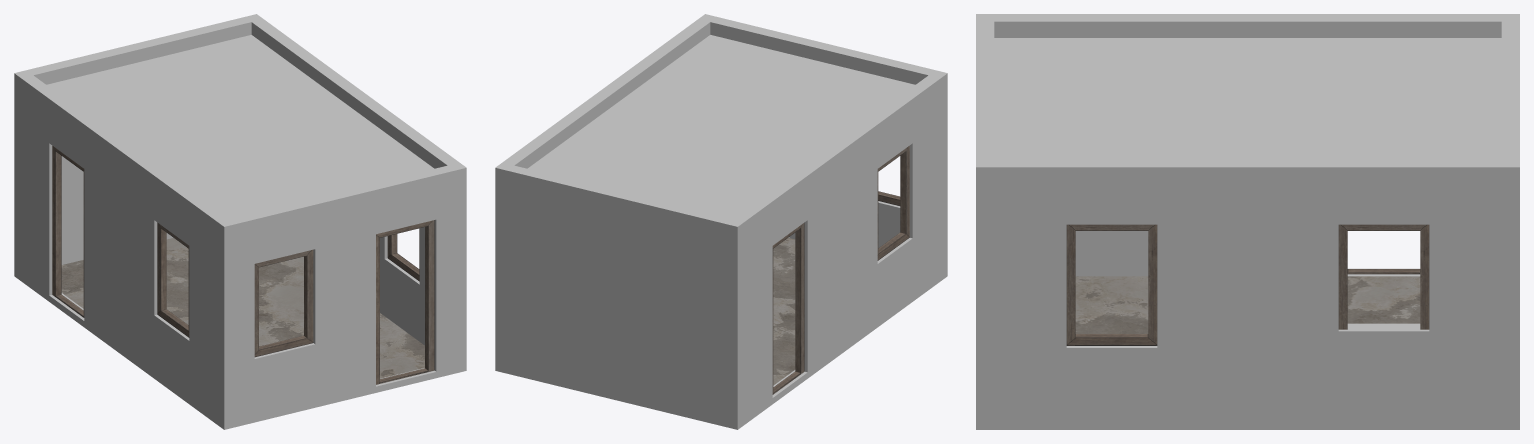
File: Building_A_Intact.fbx
The picture shows the model from 3 angles, left to right: view 1: azimuth 30°, elevation 25°; view 2: azimuth 150°, elevation 25°; view 3: azimuth 270°, elevation 25°; orthographic projection. The views are drawn at different scales.
Visible parts, largest first — view 1: Walls, Rooftop, Windows, Floor_Ground; view 2: Walls, Rooftop, Windows, Floor_Ground; view 3: Walls, Rooftop, Floor_Ground, Windows.
Part boxes in pixels (bbox=[...]): Walls: bbox=[14, 14, 466, 429]; Rooftop: bbox=[46, 35, 434, 218]; Windows: bbox=[52, 146, 434, 384]; Floor_Ground: bbox=[61, 238, 424, 378]; Walls: bbox=[495, 14, 947, 429]; Rooftop: bbox=[527, 35, 915, 218]; Windows: bbox=[772, 146, 909, 394]; Floor_Ground: bbox=[773, 238, 795, 385]; Walls: bbox=[976, 14, 1519, 429]; Rooftop: bbox=[994, 38, 1501, 159]; Floor_Ground: bbox=[1075, 276, 1420, 333]; Windows: bbox=[1066, 224, 1429, 345].
Bounding box in the file's own units: 400 × 320 × 600.
